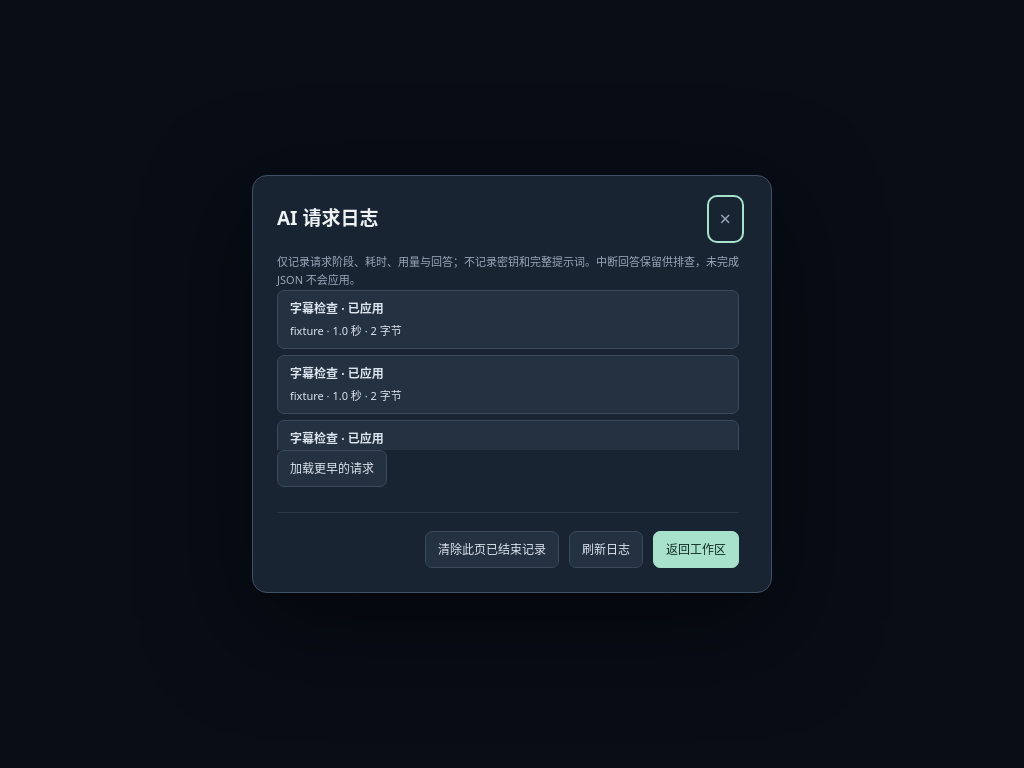
diagnostics page navigation › loads older requests with a stable timestamp/ID cursor without losing existing rows
This screenshot has width=1024, height=768.
Click the button "加载更早的请求".
click(332, 469)  # box [277,450,387,487]
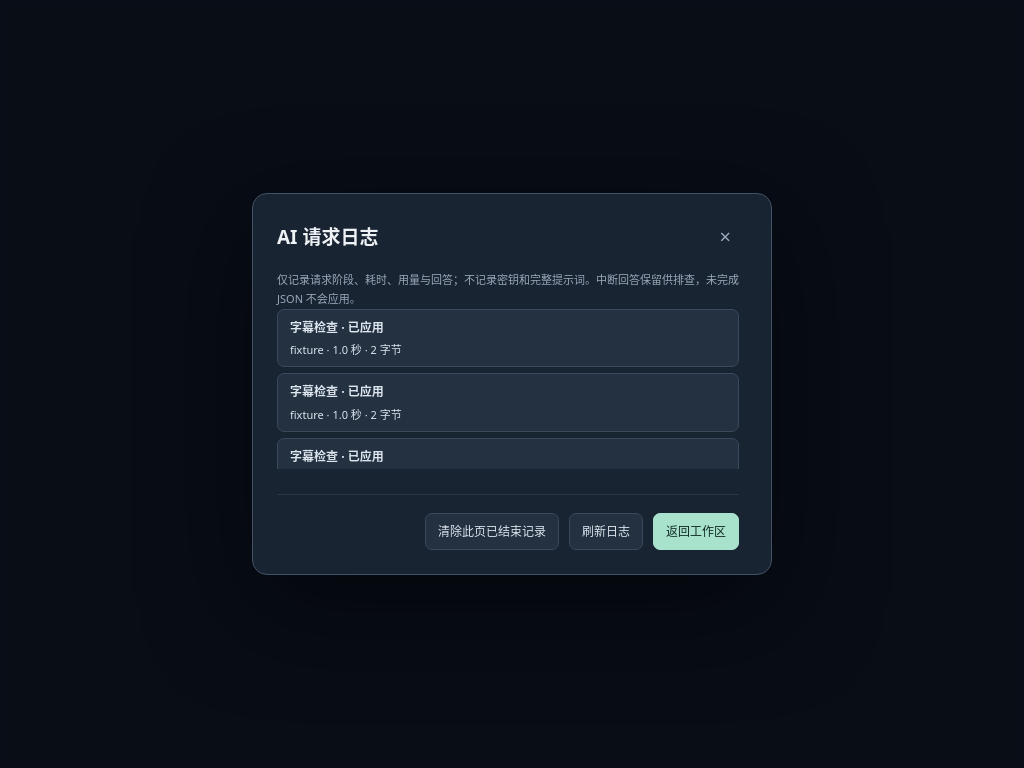
Check: the number of buttons "字幕检查 · 已应用 fixture · 1.0 秒 · 2 字节" is 52
Check: the button "加载更早的请求" is gone
